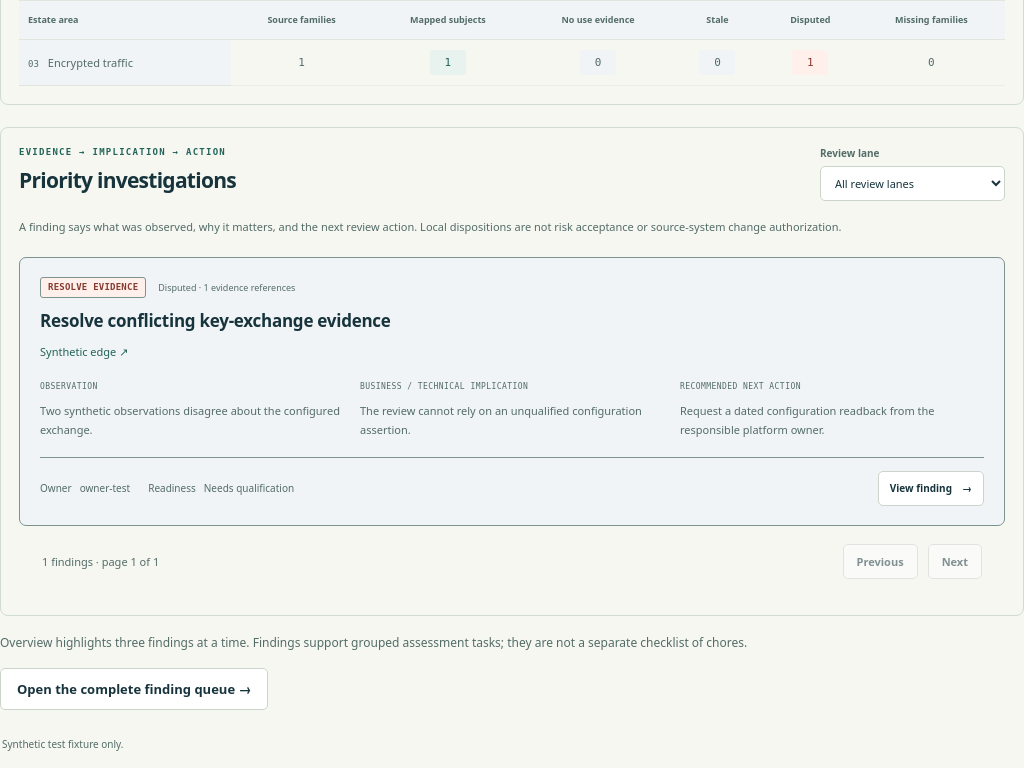
Test: analytical workspace › preserves the operator note when concurrent state prevents a write
(page scrolled)
Click the button "View finding →" at (931, 489), box left=878, top=471, right=984, bottom=506
(page scrolled)
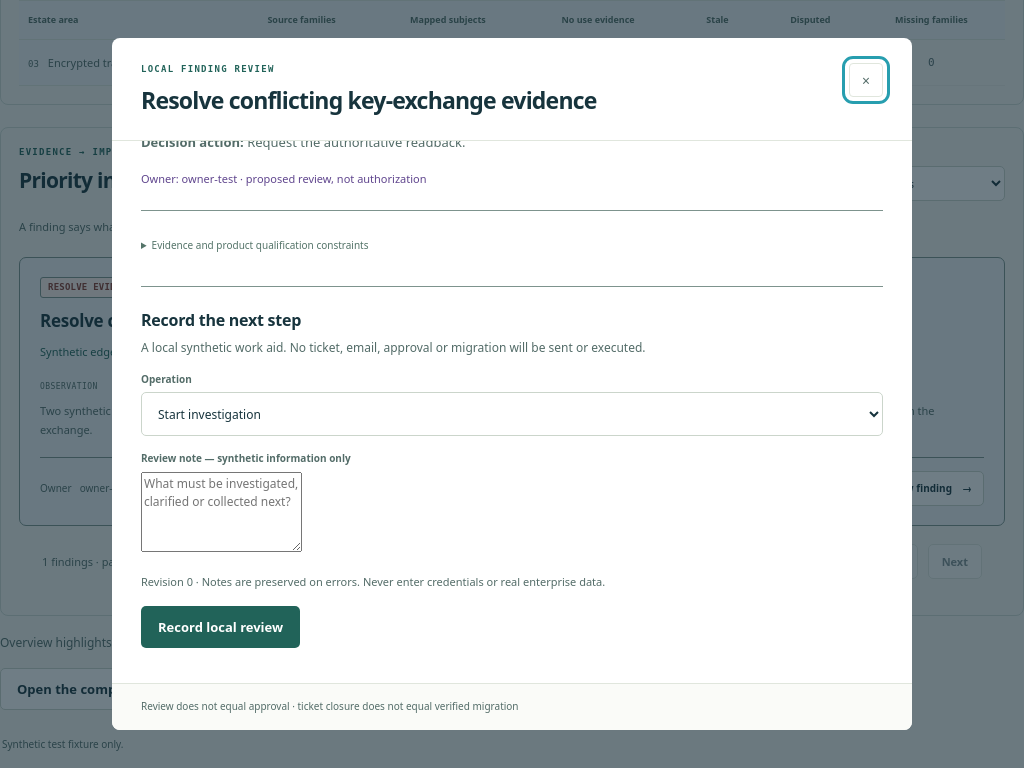
Type "Keep this review context." into the text box labelled "Review note — synthetic information only" at (222, 512), box left=141, top=472, right=302, bottom=552
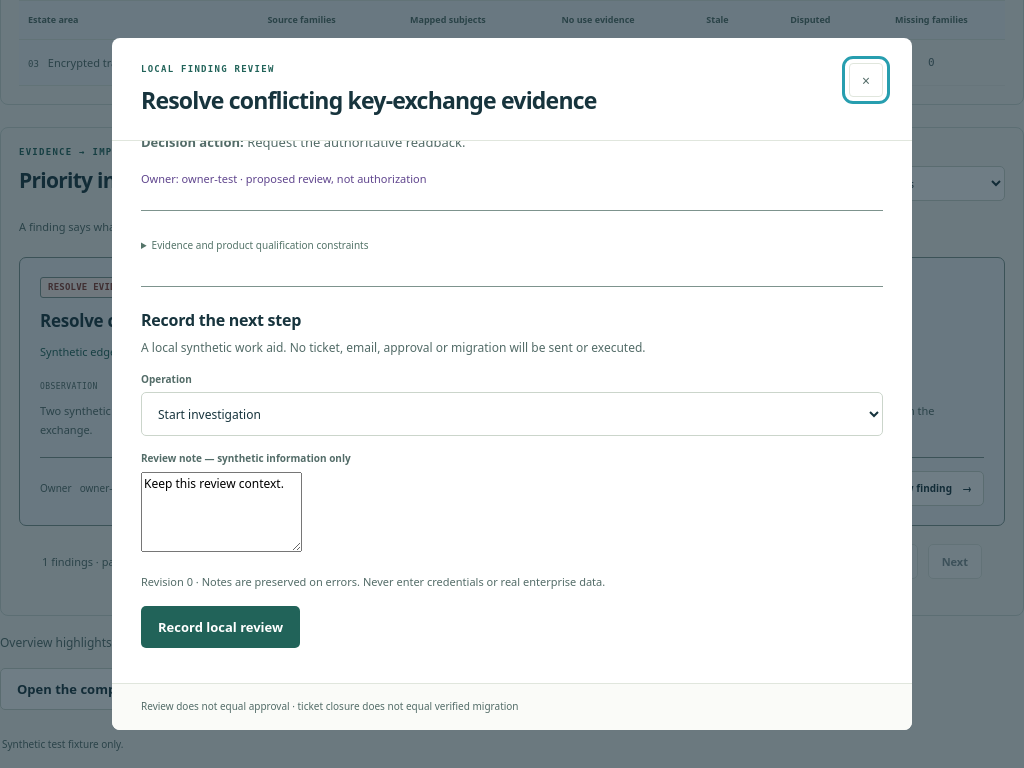
Click the button "Record local review" at (221, 627), box left=141, top=606, right=300, bottom=648
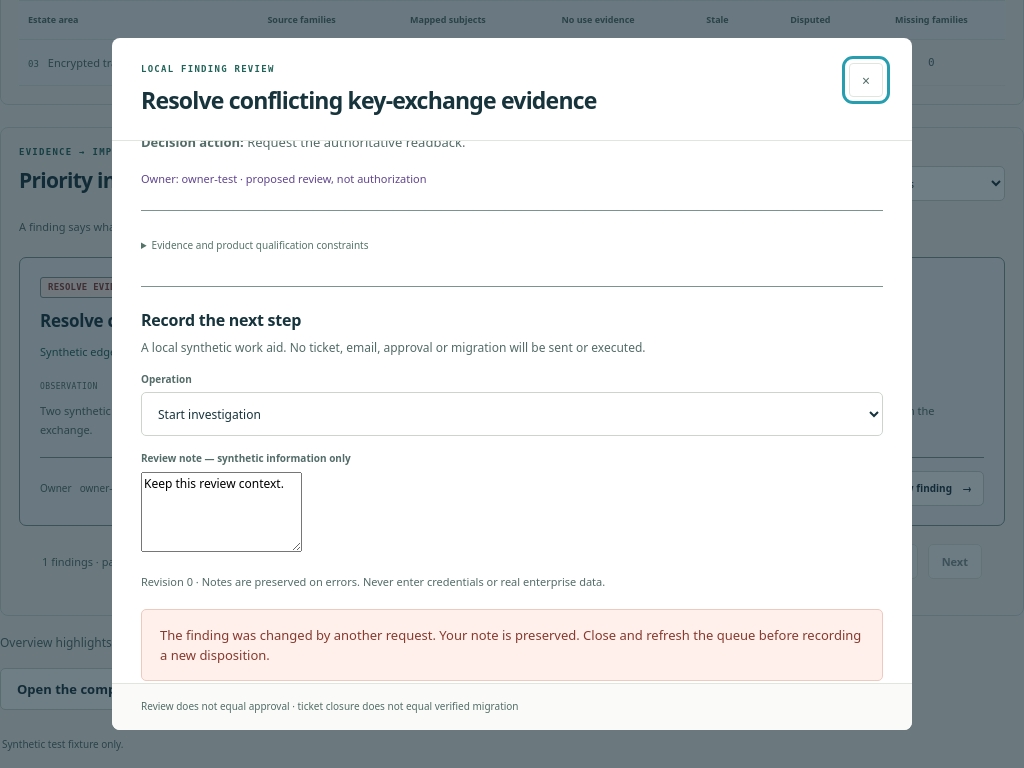
Now the message shows "Your note is preserved", box left=160, top=626, right=861, bottom=664
